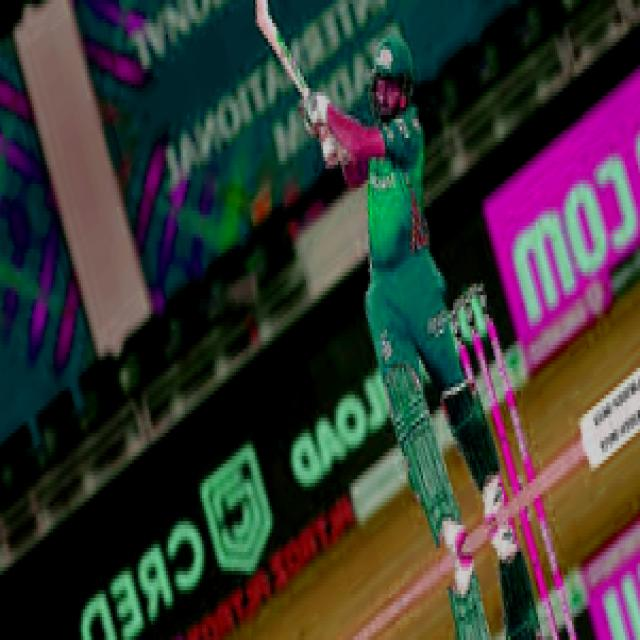toe: (249, 0, 276, 31)
